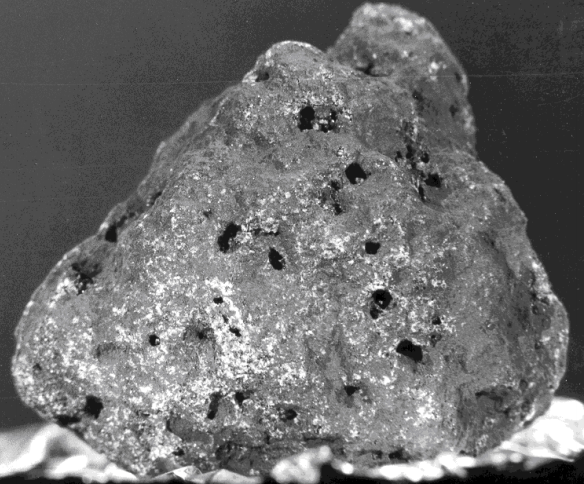Basalt: (64, 10, 539, 474), (40, 248, 521, 447), (250, 64, 427, 340)
